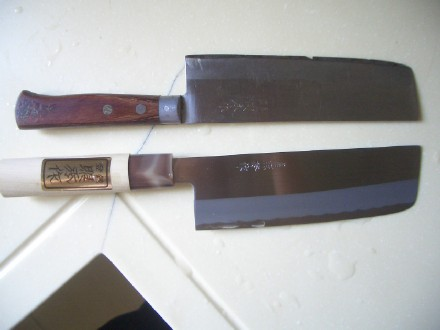knief: (15, 51, 436, 131)
